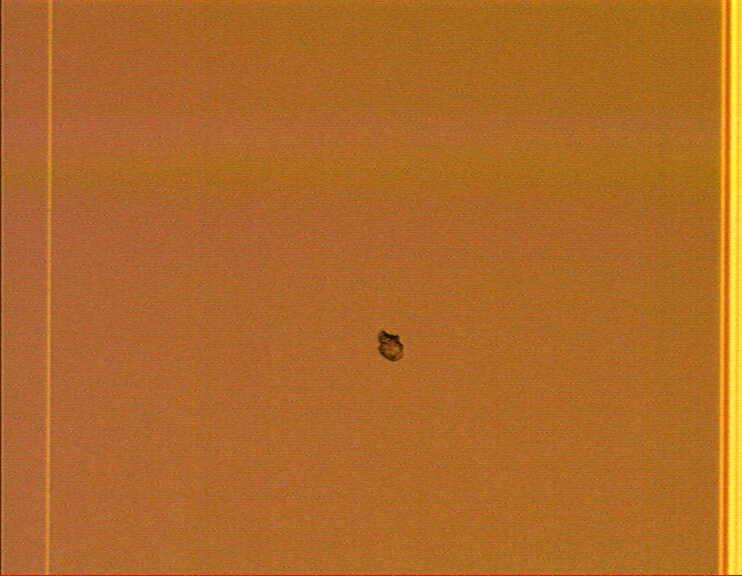PIQ PARTICLE: (373, 329, 409, 365)
